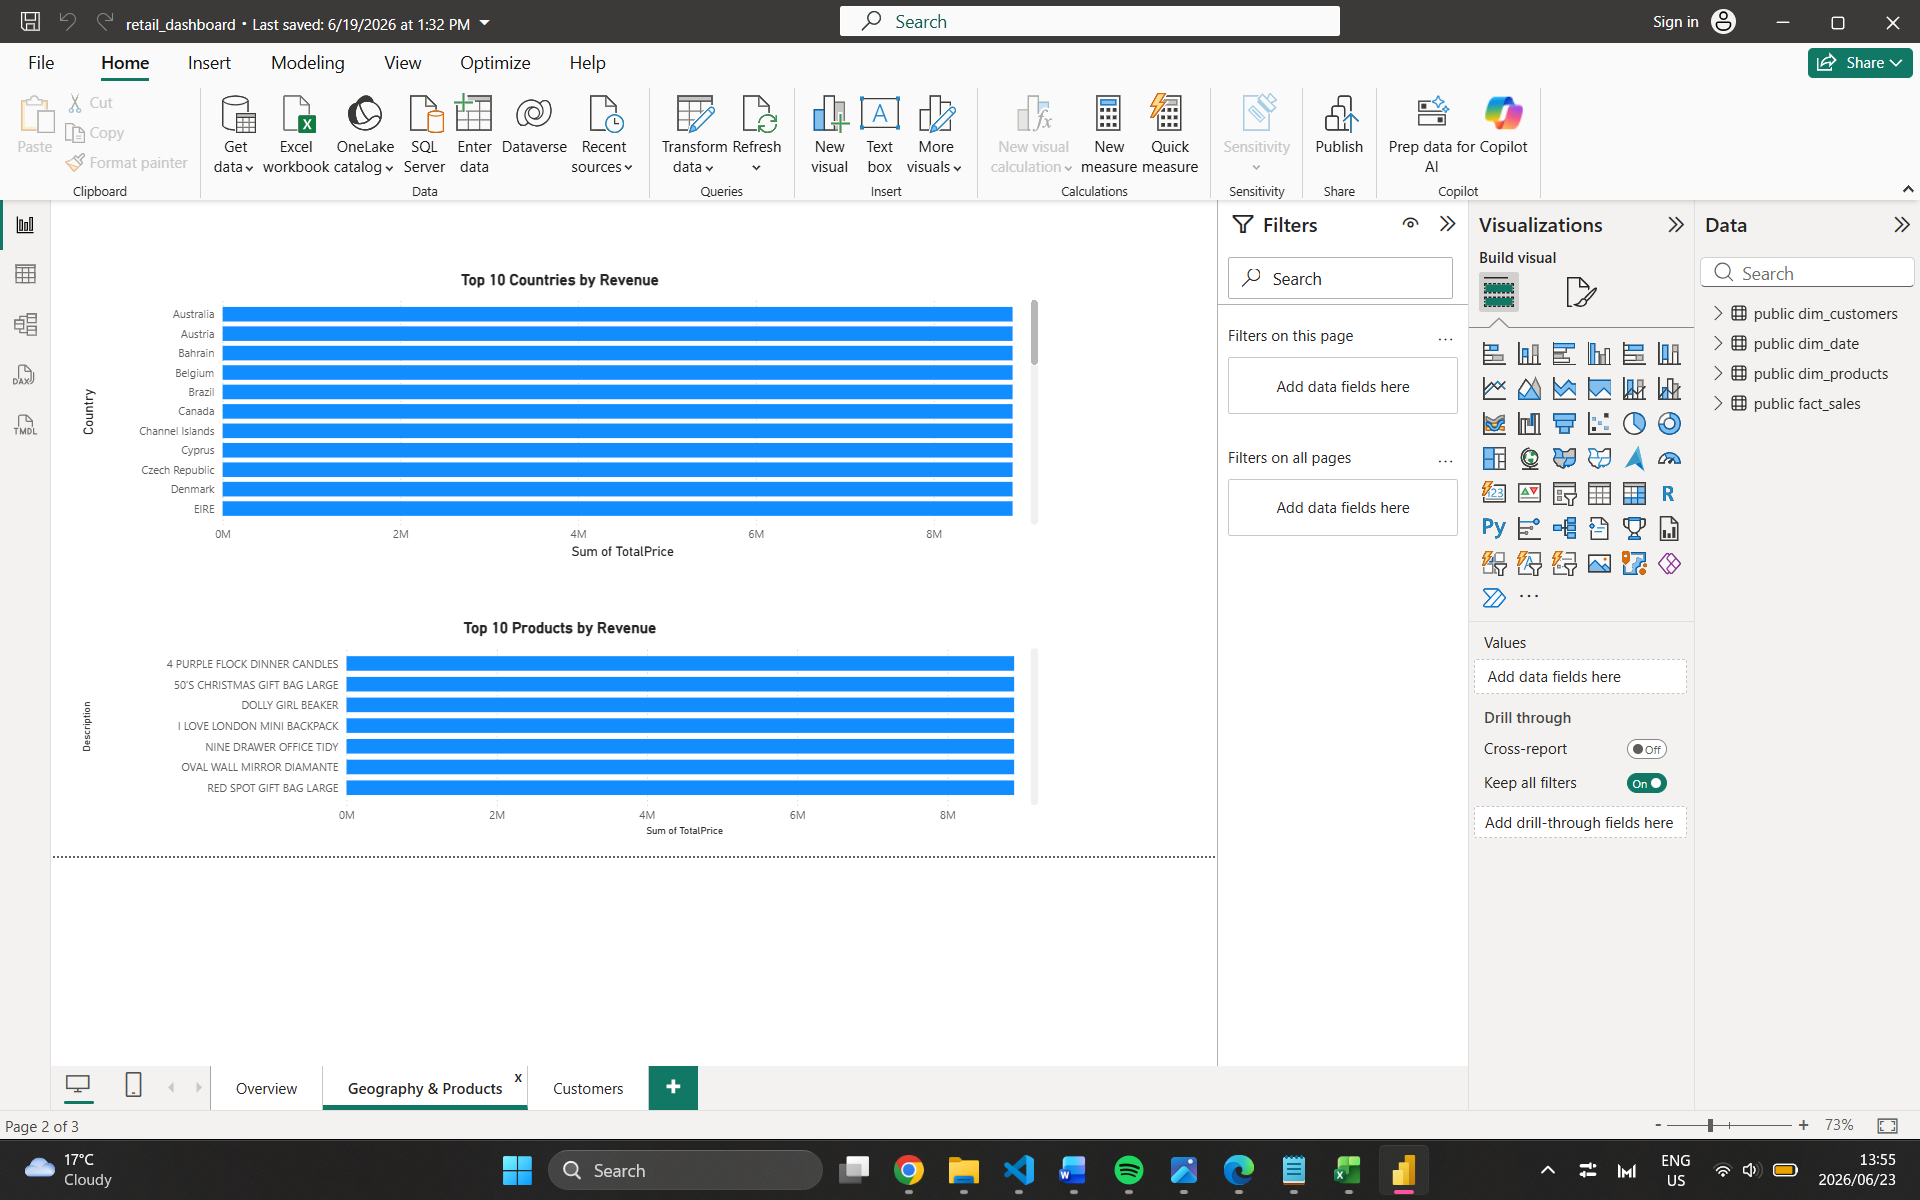

Layout of this report page (visuals, bound fields, positions):
{"tool":"powerbi","page":{"name":"Geography & Products","canvas":[1280,720],"ordinal":1},"visuals":[{"type":"clusteredBarChart","title":"Top 10 Countries by Revenue","fields":{"Category":["public dim_customers.Country"],"Y":["Sum(public fact_sales.TotalPrice)"]},"box":[28.8,76.2,1060,322.5],"z":0},{"type":"clusteredBarChart","title":"Top 10 Products by Revenue","fields":{"Category":["public dim_products.Description"],"Y":["Sum(public fact_sales.TotalPrice)"]},"box":[28.8,460,1060,243.8],"z":1000}]}

Visuals, with their boxes on the page's 1280x720 design canvas (x1, y1, x2, y2). These are canvas units, not pixel positions in the 1920x1200 screenshot, which may show the page scaled, cropped or inside an application window:
"Top 10 Countries by Revenue" clusteredBarChart: (x1=29, y1=76, x2=1089, y2=399)
"Top 10 Products by Revenue" clusteredBarChart: (x1=29, y1=460, x2=1089, y2=704)
